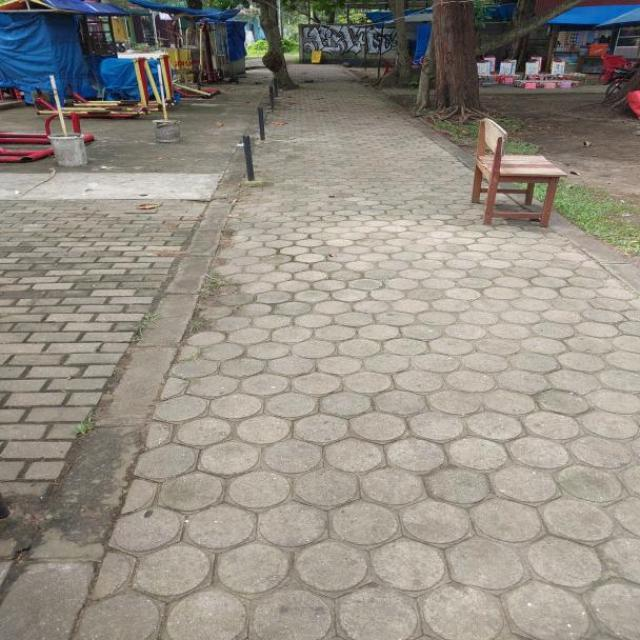chair ahead at: (466, 116, 564, 225)
